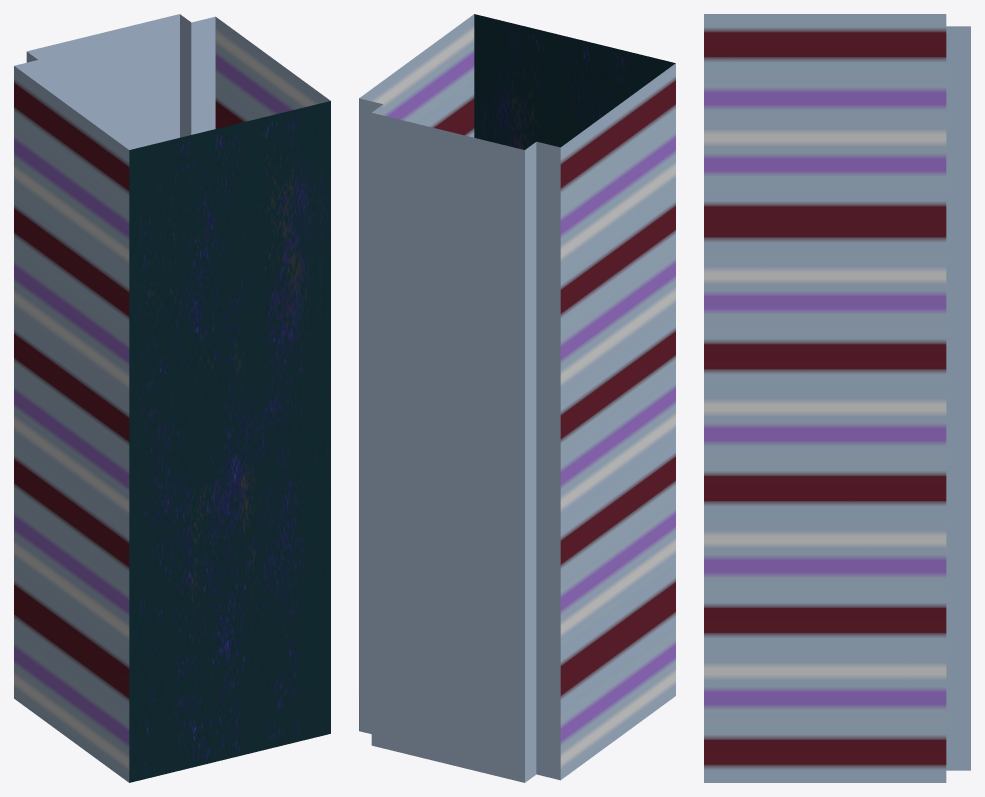
The model's file is Hall_Empty_Long.fbx.
3 views of the same model, side by side, from view 1: azimuth 30°, elevation 25°; view 2: azimuth 150°, elevation 25°; view 3: azimuth 270°, elevation 25° (orthographic). The views are drawn at different scales.
Visible parts, largest first — view 1: Hall_Empty_Long; view 2: Hall_Empty_Long; view 3: Hall_Empty_Long.
Part boxes in pixels (x1=…): Hall_Empty_Long: x1=14, y1=14, x2=330, y2=782; Hall_Empty_Long: x1=359, y1=14, x2=675, y2=782; Hall_Empty_Long: x1=704, y1=14, x2=970, y2=782.
Bounding box in the file's own units: 200 × 600 × 218.
2 materials, 2 textured.
